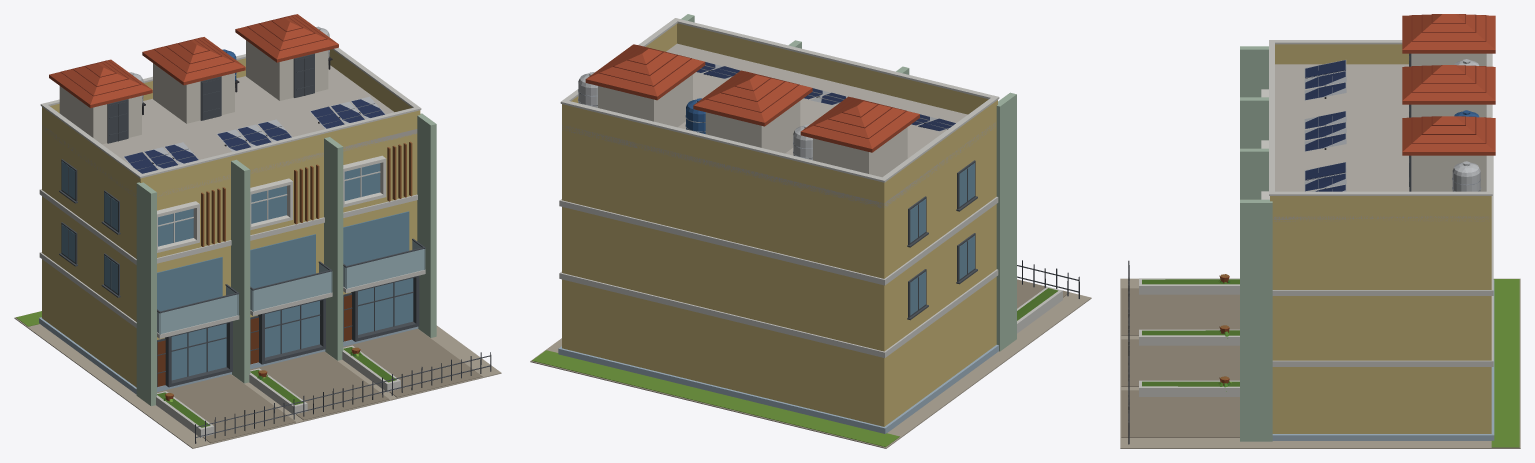
File: home_3.glb
3 views of the same model, side by side, from view 1: azimuth 30°, elevation 25°; view 2: azimuth 150°, elevation 25°; view 3: azimuth 270°, elevation 25° (orthographic). The views are drawn at different scales.
Visible parts, largest first — view 1: body; view 2: body; view 3: body.
Part boxes in pixels (x1,y1,x2,y2): body: (14, 14, 501, 448); body: (530, 14, 1091, 448); body: (1120, 14, 1520, 448).
Bounding box in the file's own units: 15.9 × 12.94 × 15.9.
